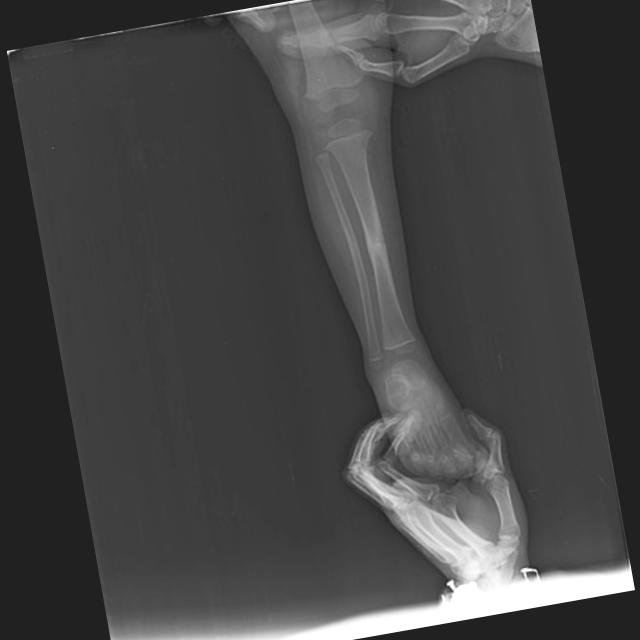Fracture: (363, 230, 387, 256)
